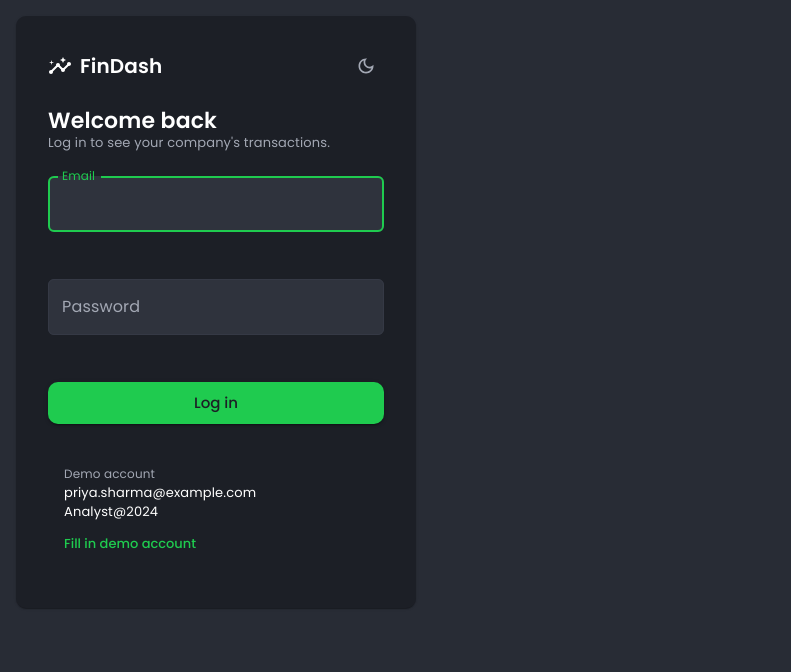
Test: LoginPage › shows the error chip, clears the password and keeps the email on bad credentials
Type "priya.sharma@example.com" into the field labelled "Email" at [216, 204], box [48,176,384,232]
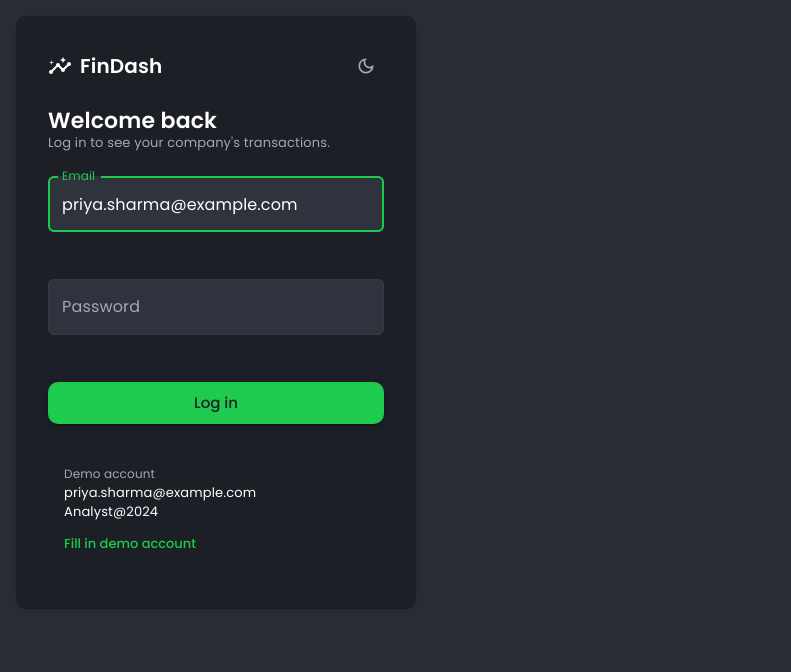
Type "wrong-password" into the password field labelled "Password" at [216, 307], box [48,279,384,335]
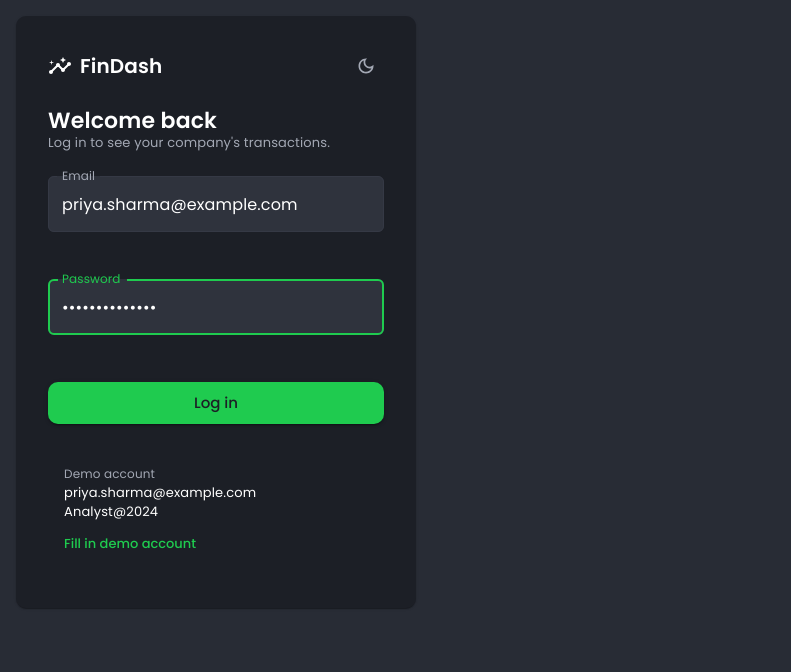
Click the button "Log in" at [216, 403], box [48,382,384,424]
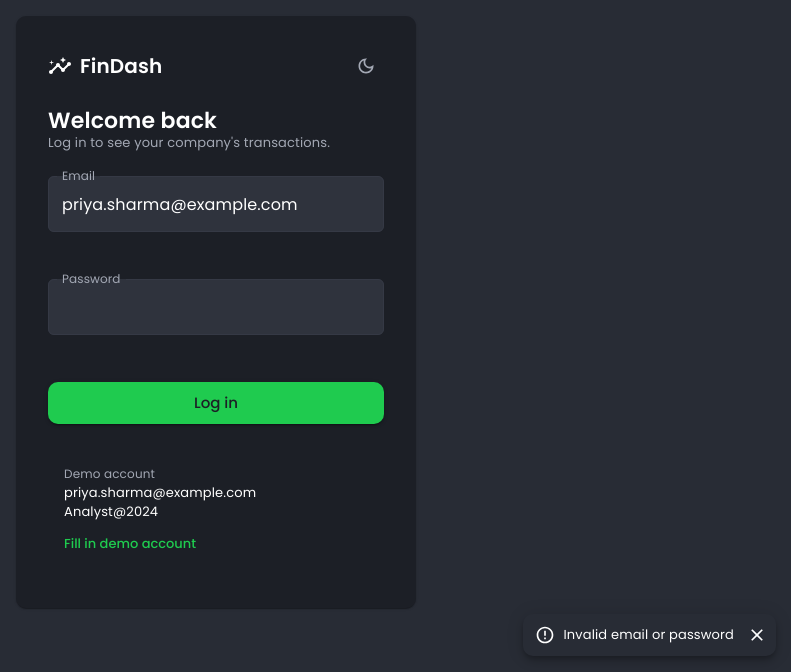
Expected: the message reads "Invalid email or password", [564,625,734,644]
Expected: the password field labelled "Password" is empty, [48,279,384,335]
